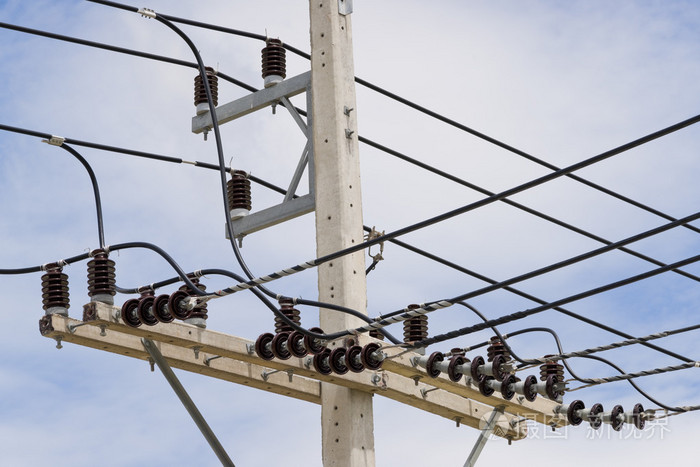insulator: (119, 289, 194, 327), (313, 340, 383, 378), (423, 351, 507, 381), (254, 326, 327, 360), (567, 400, 647, 431), (476, 373, 557, 400)
